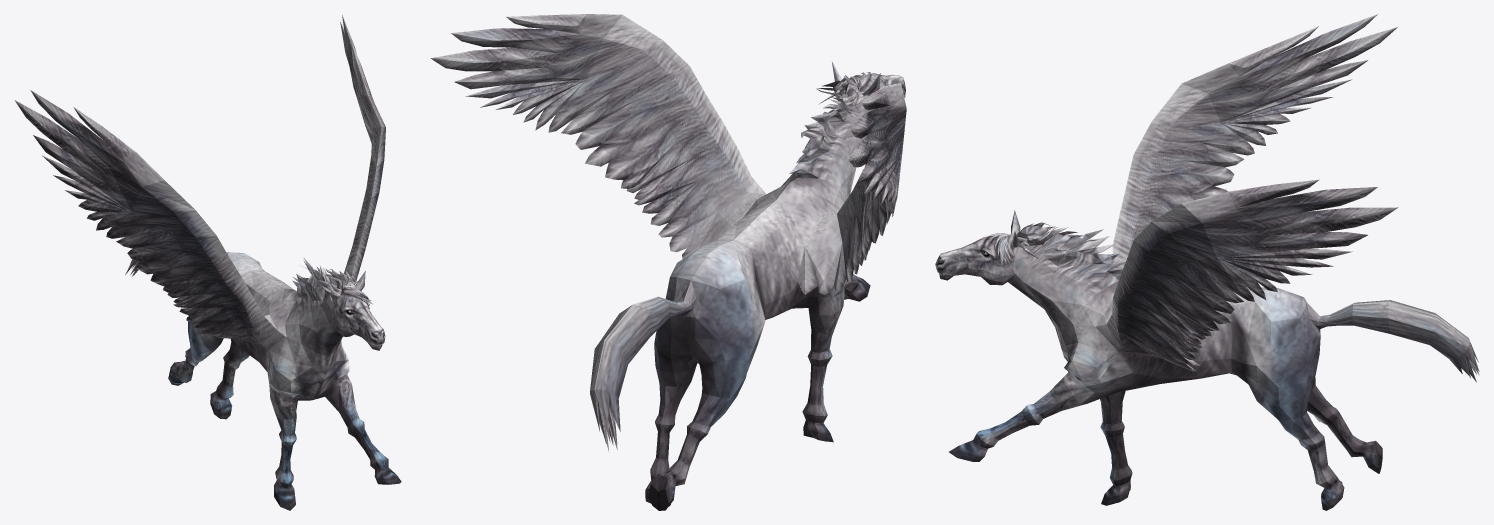
File: Pegasus.fbx
3 renders of one model, left to right at view 1: azimuth 30°, elevation 25°; view 2: azimuth 150°, elevation 25°; view 3: azimuth 270°, elevation 25°, orthographic. The views are drawn at different scales.
Visible parts, largest first — view 1: Wings, Body; view 2: Wings, Body; view 3: Wings, Body.
Part boxes in pixels (bbox=[...]): Wings: bbox=[14, 15, 385, 348]; Body: bbox=[125, 252, 401, 510]; Wings: bbox=[430, 14, 906, 294]; Body: bbox=[590, 62, 905, 510]; Wings: bbox=[1095, 14, 1398, 371]; Body: bbox=[935, 210, 1479, 510].
Size of the model in its own units: 1521 by 1628 by 1942.
2 materials, 2 textured.
